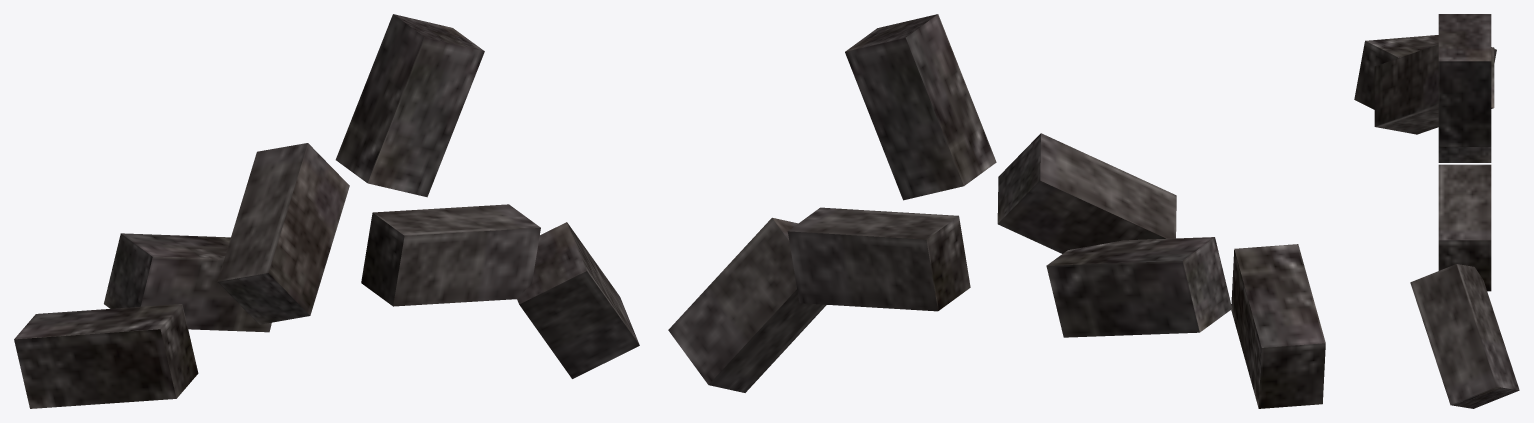
The picture shows the model from 3 angles, left to right: view 1: azimuth 30°, elevation 25°; view 2: azimuth 150°, elevation 25°; view 3: azimuth 270°, elevation 25°; orthographic projection. The views are drawn at different scales.
Visible parts, largest first — view 1: model_Object23; view 2: model_Object23; view 3: model_Object23.
Part boxes in pixels (x1,y1,x2,y2): model_Object23: [14, 14, 639, 408]; model_Object23: [668, 14, 1325, 408]; model_Object23: [1354, 14, 1519, 408].
Bounding box in the file's own units: 1.33 × 0.8098 × 0.3708.
1 material, 1 textured.
